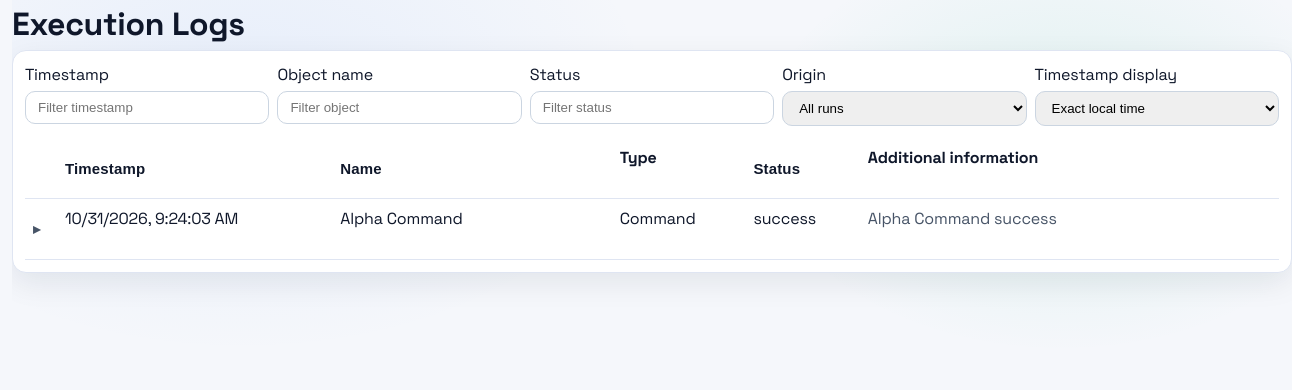
Test: ExecutionLogsPage › renders wait-for-image parameters and exit condition in the additional-information column
Expected: the text "Alpha Command" is shown, x1=332 y1=199 x2=612 y2=260
What coordinates should you click on to do the following:
click the button named "Expand sub-elements"
I would click on:
 (37, 229)
Its box is x1=33 y1=207 x2=40 y2=251.
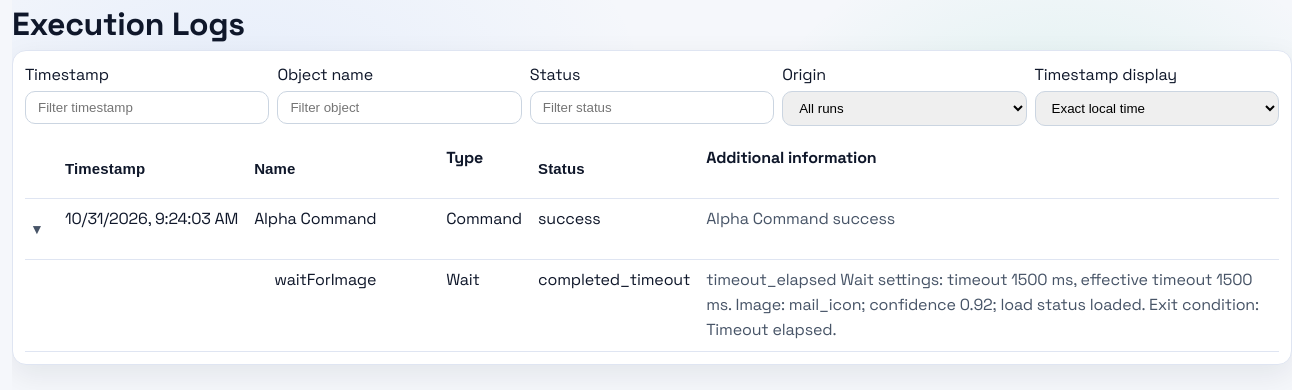
Expected: the text "Exit condition: Timeout elapsed." is shown, x1=706 y1=269 x2=1259 y2=340
